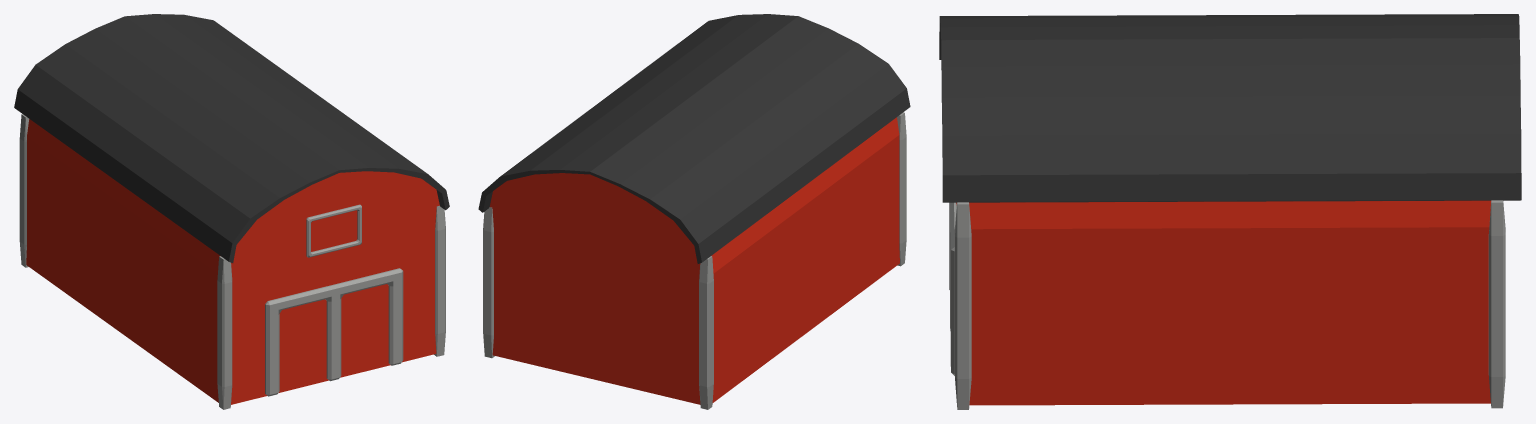
File: Barn.glb
3 renders of one model, left to right at view 1: azimuth 30°, elevation 25°; view 2: azimuth 150°, elevation 25°; view 3: azimuth 270°, elevation 25°, orthographic. The views are drawn at different scales.
Parts seen in each view (by area): view 1: Barn; view 2: Barn; view 3: Barn.
Part boxes in pixels (<box>): Barn: <box>14,14,449,409</box>; Barn: <box>478,14,910,409</box>; Barn: <box>939,14,1521,409</box>.
Bounding box in the file's own units: 5.73 × 5.2 × 9.26.
